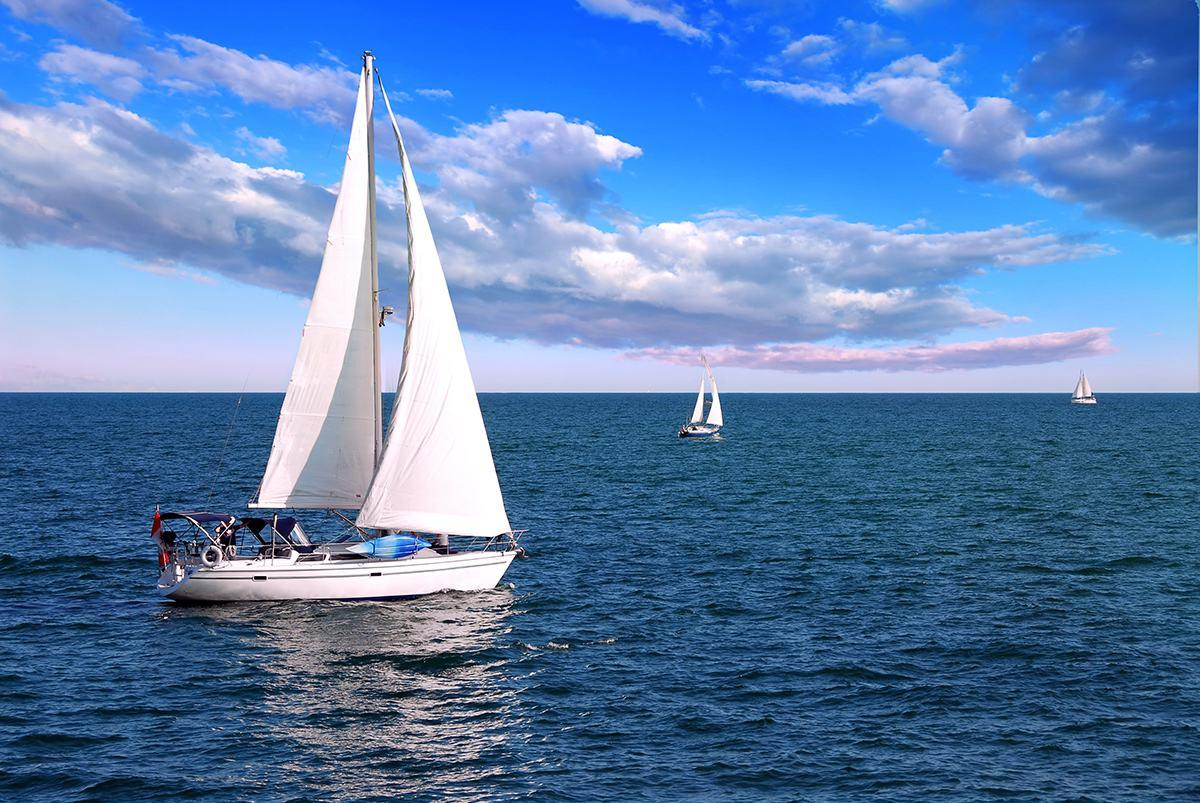fanchuan: (152, 46, 529, 613), (666, 355, 733, 445), (1065, 368, 1101, 411)
